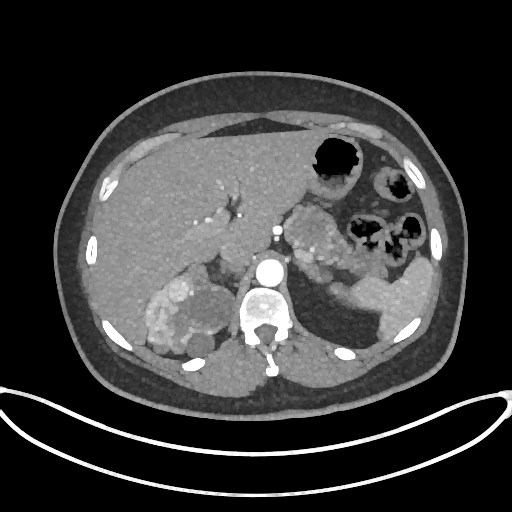Lesion: (164, 277, 194, 305)
